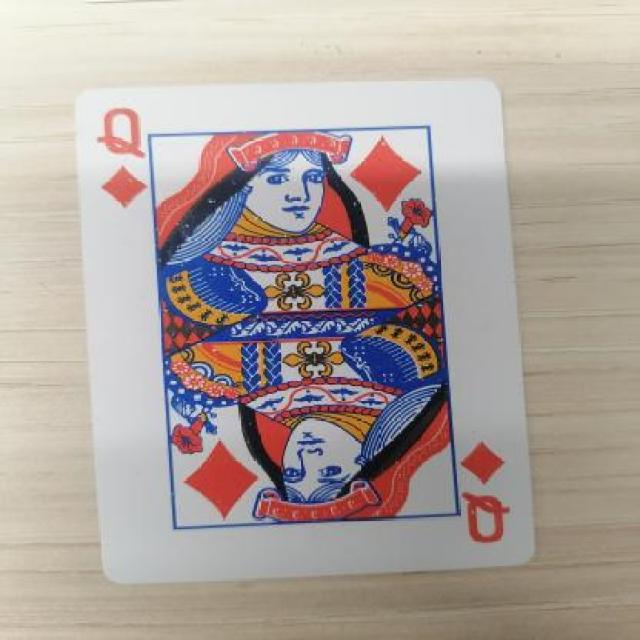QD: (77, 105, 180, 227), (446, 424, 523, 558)
